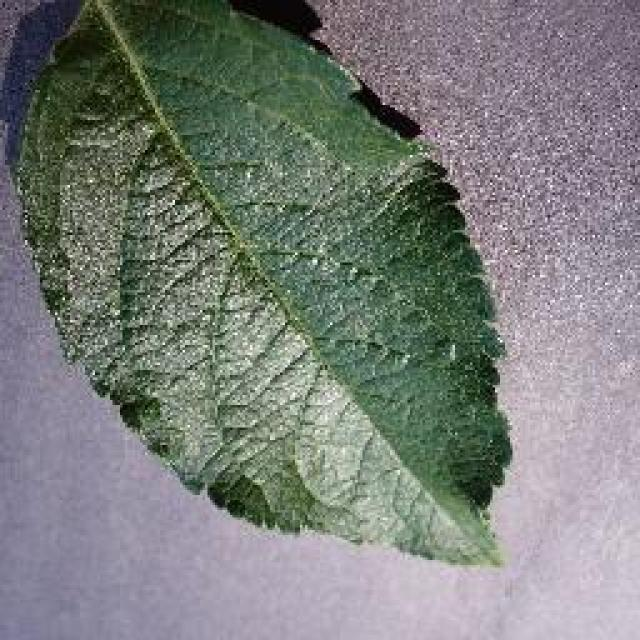apple healthy: (7, 0, 515, 568)
